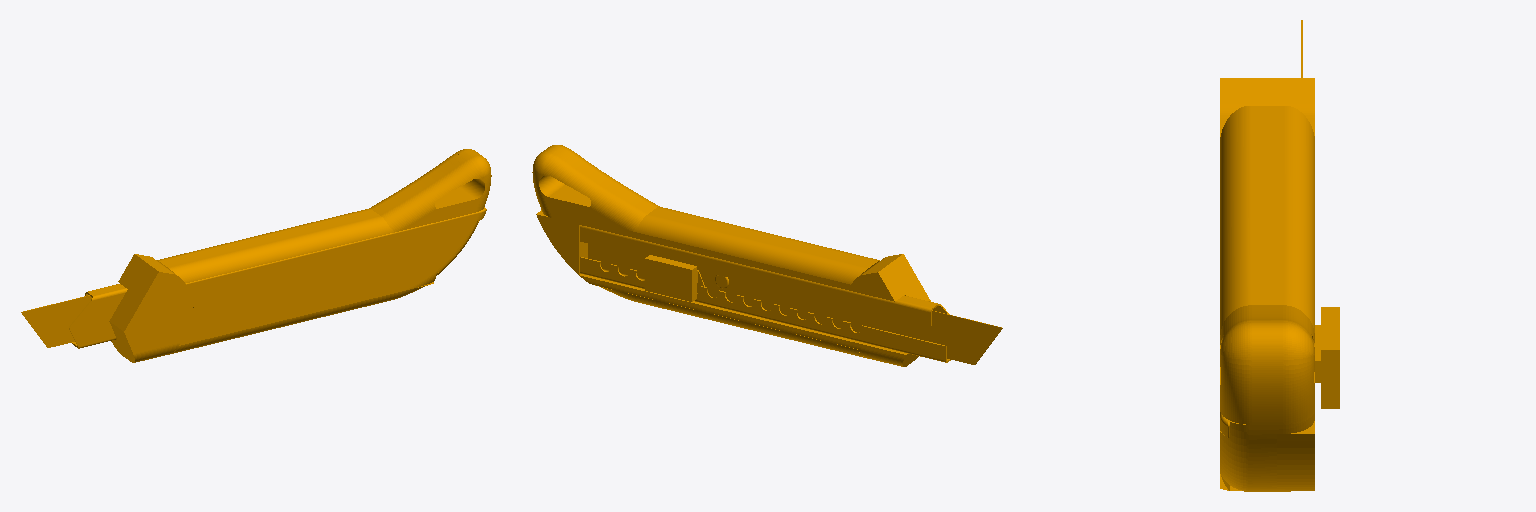
robot.urdf — utilityknife_2_L0.75_T0.77:
<?xml version="1.0" encoding="utf-8"?>
<robot name="utilityknife_2_L0.75_T0.77">
  <link name="utilityknife_2_L0.75_T0.77Link">
    <contact>
      <lateral_friction value="1"/>
    </contact>
    <inertial>
      <origin rpy="0 0 0" xyz="0 0 0"/>
      <mass value="0.0"/>
      <inertia ixx="0" ixy="0" ixz="0" iyy="0" iyz="0" izz="0"/>
    </inertial>
    <visual>
      <origin rpy="0 0 0" xyz="0 0 0"/>
      <geometry>
        <mesh filename="generated_stl/utilityknife/utilityknife_2/utilityknife_2_L0.75_T0.77/utilityknife_2_L0.75_T0.77.stl" scale="0.01 0.01 0.01"/>
      </geometry>
    </visual>
    <collision>
      <origin rpy="0 0 0" xyz="0 0 0"/>
      <geometry>
        <mesh filename="generated_stl/utilityknife/utilityknife_2/utilityknife_2_L0.75_T0.77/utilityknife_2_L0.75_T0.77.stl" scale="0.01 0.01 0.01"/>
      </geometry>
    </collision>
  </link>
</robot>

--- What the picture shows (computed from the rendered views, not written in the file) ---
3 views of the same robot in one strip: view 1: azimuth 30°, elevation 25°; view 2: azimuth 150°, elevation 25°; view 3: azimuth 270°, elevation 25° (orthographic).
Model utilityknife_2_L0.75_T0.77 with 1 links and 0 joints (none), rooted at utilityknife_2_L0.75_T0.77Link, posed all joints at 0.
Links seen in each view (by area): view 1: utilityknife_2_L0.75_T0.77Link; view 2: utilityknife_2_L0.75_T0.77Link; view 3: utilityknife_2_L0.75_T0.77Link.
Link boxes in pixels (x1,y1,x2,y2): utilityknife_2_L0.75_T0.77Link: [21, 149, 491, 362]; utilityknife_2_L0.75_T0.77Link: [532, 145, 1002, 366]; utilityknife_2_L0.75_T0.77Link: [1220, 20, 1339, 491].
Size in the robot's own frame: 0.0601 by 0.0071 by 0.0153 metres.
1 mesh visuals loaded from 1 distinct referenced files (1 binary STL).